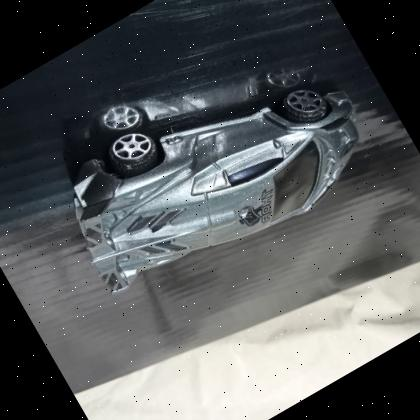Car: (38, 20, 399, 325)
